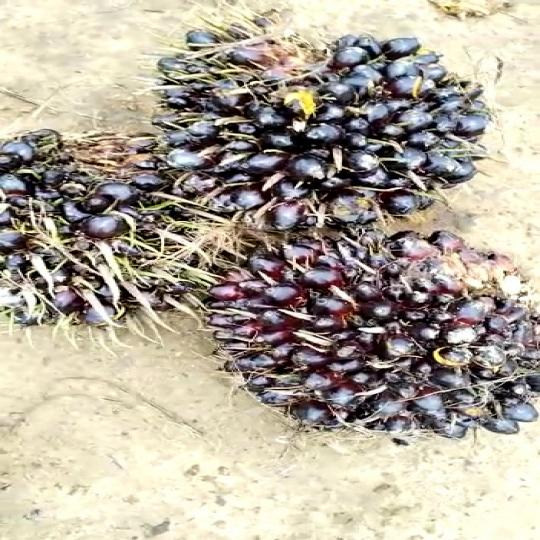mentah: (142, 14, 494, 241), (199, 222, 540, 436), (0, 106, 244, 332)
